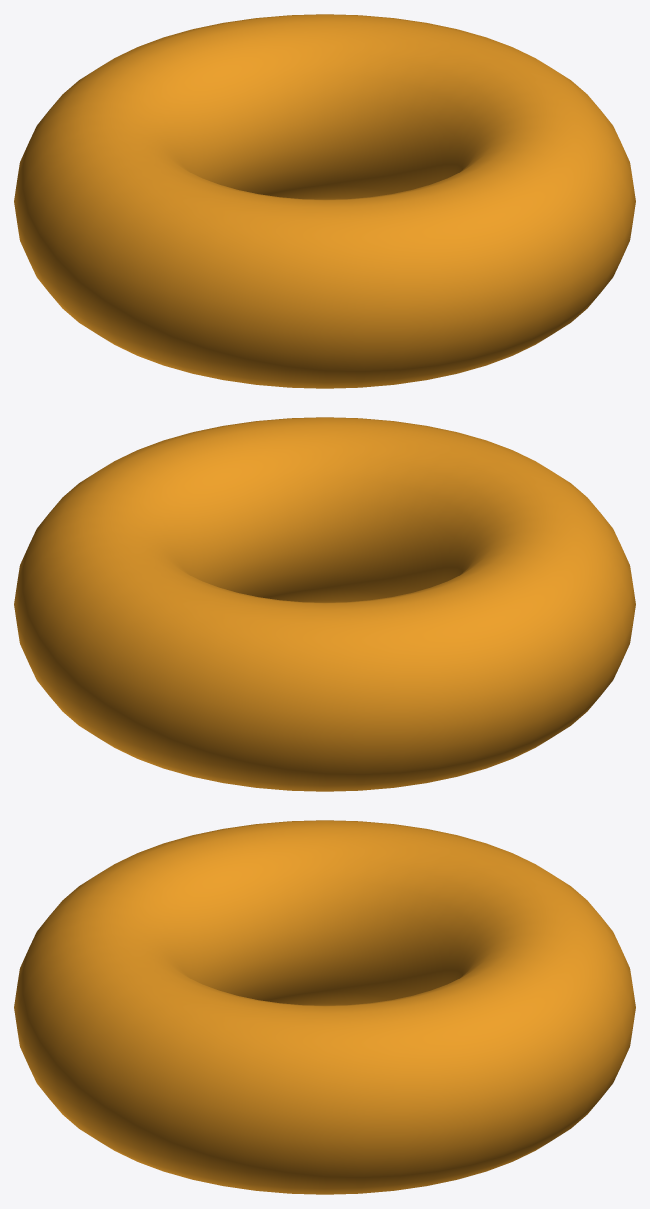
Rendered from Donut.fbx.
The picture shows the model from 3 angles, top to bottom: view 1: azimuth 30°, elevation 25°; view 2: azimuth 150°, elevation 25°; view 3: azimuth 270°, elevation 25°; orthographic projection.
Parts seen in each view (by area): view 1: Donut; view 2: Donut; view 3: Donut.
Part boxes in pixels (x1,y1,x2,y2): Donut: (14,14,635,388); Donut: (14,417,635,791); Donut: (14,820,635,1194).
Bounding box in the file's own units: 27.07 × 8.3 × 27.07.
